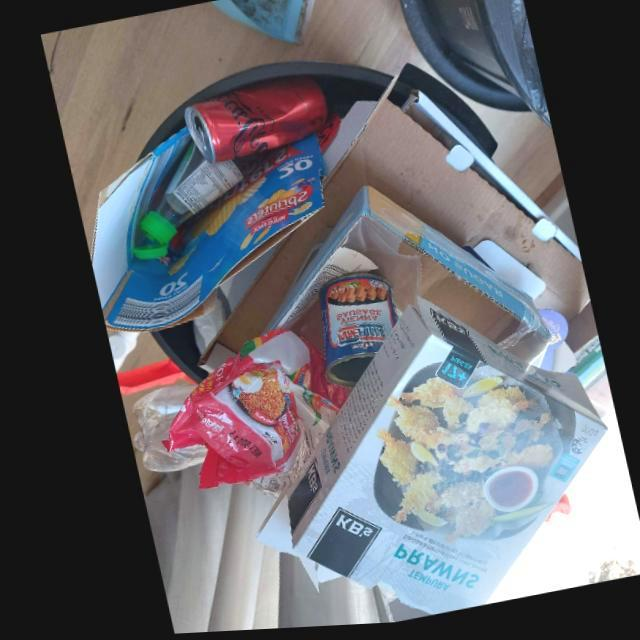aluminum: (182, 78, 326, 165), (313, 275, 393, 391)
cardboard: (246, 299, 602, 619), (192, 94, 585, 373), (255, 188, 547, 366), (87, 127, 322, 333)
plastic_bag: (154, 331, 346, 500)
plastic_bottle: (128, 142, 240, 260)
